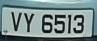1: (66, 12, 75, 36)
3: (73, 12, 86, 36)
5: (54, 11, 66, 37)
6: (40, 13, 54, 35)
V: (11, 11, 24, 33)
Y: (23, 12, 36, 34)
